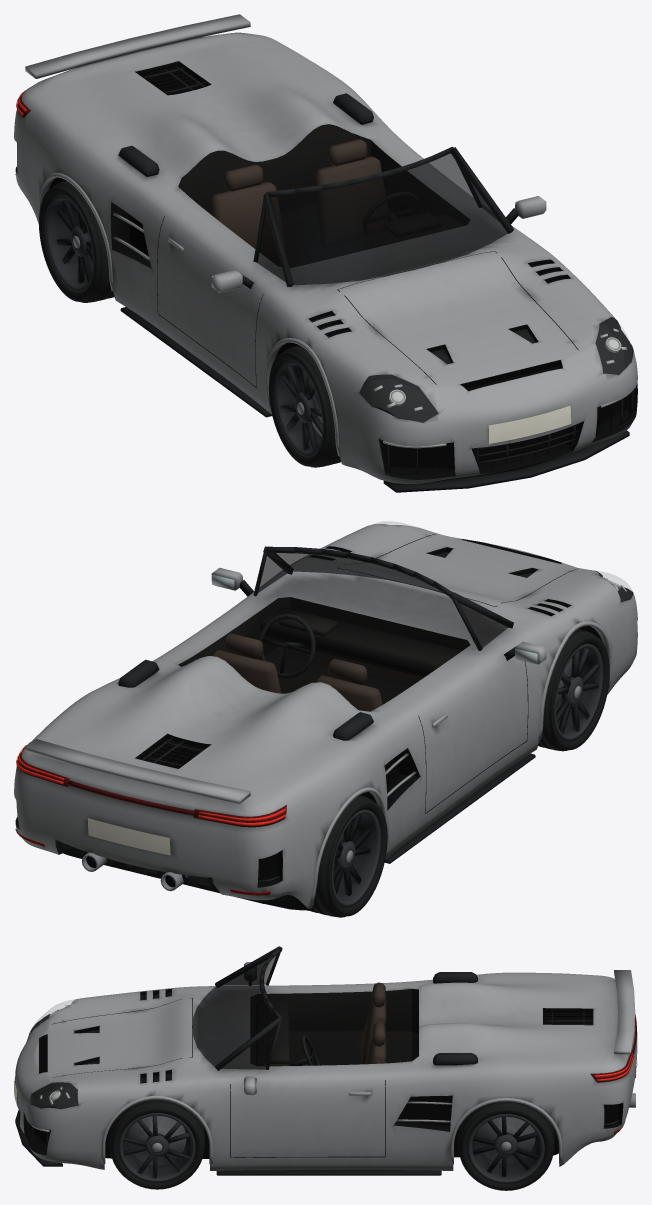
Rendered from porsche-718-spyder-rs.glb.
The picture shows the model from 3 angles, top to bottom: view 1: azimuth 30°, elevation 25°; view 2: azimuth 150°, elevation 25°; view 3: azimuth 270°, elevation 25°; orthographic projection. The views are drawn at different scales.
Visible parts, largest first — view 1: Coachwork, Body, Wheel_RR, Wheel_FR, Plate, Headlights; view 2: Coachwork, Body, Wheel_RR, Wheel_FR, Plate, Taillights; view 3: Coachwork, Body, Wheel_RL, Wheel_FL.
Part boxes in pixels (<box>): Coachwork: <box>14,32,637,483</box>; Body: <box>15,14,633,492</box>; Wheel_RR: <box>39,180,114,302</box>; Wheel_FR: <box>268,345,340,467</box>; Plate: <box>488,405,571,443</box>; Headlights: <box>373,328,631,448</box>; Coachwork: <box>14,524,637,910</box>; Body: <box>15,521,632,905</box>; Wheel_RR: <box>306,795,387,917</box>; Wheel_FR: <box>538,629,609,751</box>; Plate: <box>87,818,170,855</box>; Taillights: <box>16,745,285,825</box>; Coachwork: <box>15,972,637,1170</box>; Body: <box>15,946,636,1175</box>; Wheel_RL: <box>458,1101,554,1190</box>; Wheel_FL: <box>109,1099,204,1189</box>.
Size of the model in its own units: 2.09 by 1.25 by 4.44.
